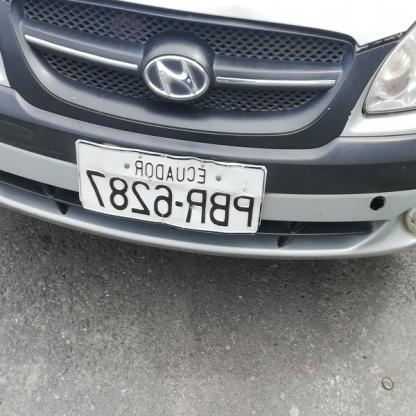Placa: (73, 142, 267, 230)
